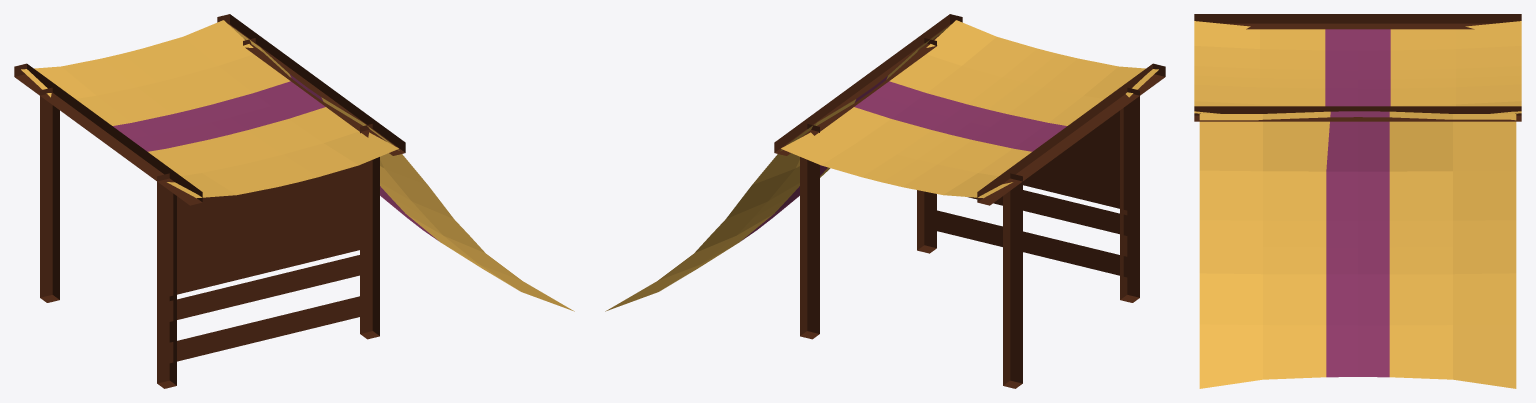
The model's file is AlmacenMykker.fbx.
The picture shows the model from 3 angles, left to right: view 1: azimuth 30°, elevation 25°; view 2: azimuth 150°, elevation 25°; view 3: azimuth 270°, elevation 25°; orthographic projection. The views are drawn at different scales.
Parts seen in each view (by area): view 1: Almacen.002; view 2: Almacen.002; view 3: Almacen.002.
Part boxes in pixels (bbox=[...]): Almacen.002: bbox=[14, 14, 574, 388]; Almacen.002: bbox=[605, 14, 1165, 388]; Almacen.002: bbox=[1194, 14, 1521, 388].
Bounding box in the file's own units: 383 × 201 × 300.
